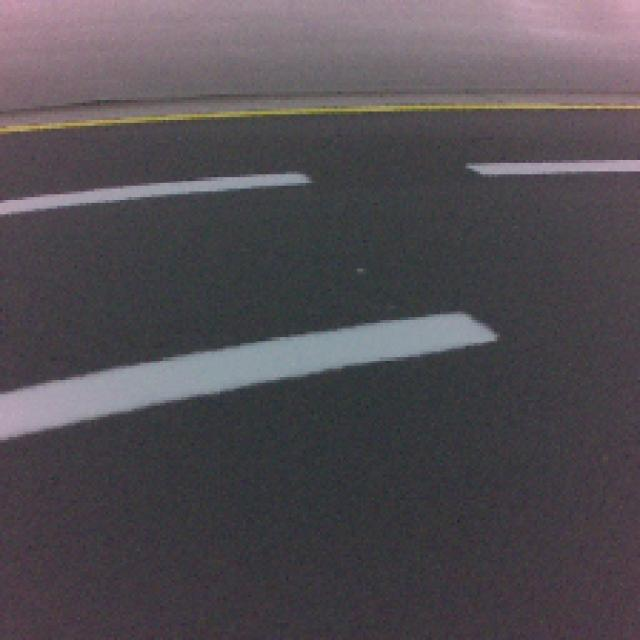Guard rail: (0, 312, 502, 440)
